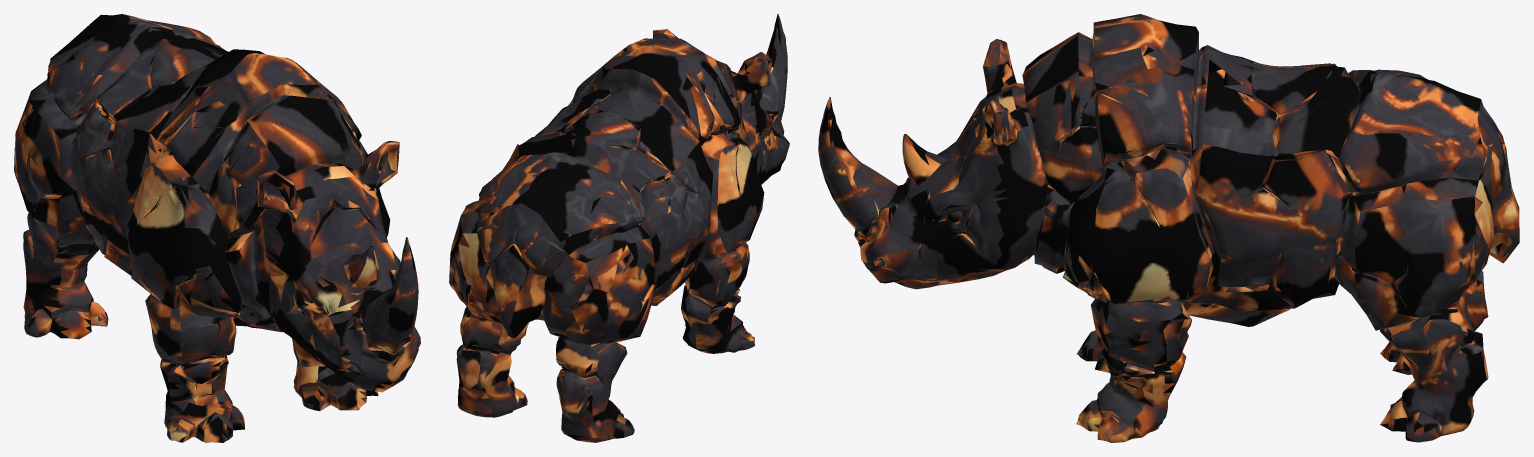
The model's file is creature_rhino_lava.fbx.
The picture shows the model from 3 angles, left to right: view 1: azimuth 30°, elevation 25°; view 2: azimuth 150°, elevation 25°; view 3: azimuth 270°, elevation 25°; orthographic projection. The views are drawn at different scales.
Parts seen in each view (by area): view 1: creature_rhino_lava_body, creature_rhino_lava_head, creature_rhino_lava_leg_fr, creature_rhino_lava_leg_br, creature_rhino_lava_leg_fl; view 2: creature_rhino_lava_body, creature_rhino_lava_tail, creature_rhino_lava_leg_br, creature_rhino_lava_leg_bl, creature_rhino_lava_head, creature_rhino_lava_leg_fr; view 3: creature_rhino_lava_body, creature_rhino_lava_head, creature_rhino_lava_leg_bl, creature_rhino_lava_leg_fl, creature_rhino_lava_tail, creature_rhino_lava_leg_br, creature_rhino_lava_leg_fr.
Part boxes in pixels (box(x1,y1,x2,y2)): creature_rhino_lava_body: box(14, 14, 393, 331); creature_rhino_lava_head: box(257, 141, 420, 392); creature_rhino_lava_leg_fr: box(148, 309, 282, 442); creature_rhino_lava_leg_br: box(23, 213, 154, 345); creature_rhino_lava_leg_fl: box(292, 338, 378, 411); creature_rhino_lava_body: box(449, 32, 768, 343); creature_rhino_lava_tail: box(454, 203, 593, 338); creature_rhino_lava_leg_br: box(556, 262, 730, 442); creature_rhino_lava_leg_bl: box(456, 307, 528, 417); creature_rhino_lava_head: box(653, 14, 789, 184); creature_rhino_lava_leg_fr: box(681, 246, 754, 353); creature_rhino_lava_body: box(993, 14, 1482, 326); creature_rhino_lava_head: box(818, 39, 1009, 289); creature_rhino_lava_leg_bl: box(1162, 293, 1488, 442); creature_rhino_lava_leg_fl: box(1076, 283, 1174, 442); creature_rhino_lava_tail: box(1471, 99, 1519, 280); creature_rhino_lava_leg_br: box(1380, 271, 1488, 374); creature_rhino_lava_leg_fr: box(1077, 330, 1109, 372).
Size of the model in its own units: 783 by 1133 by 1949.
Materials: 1 (1 with a texture image).
